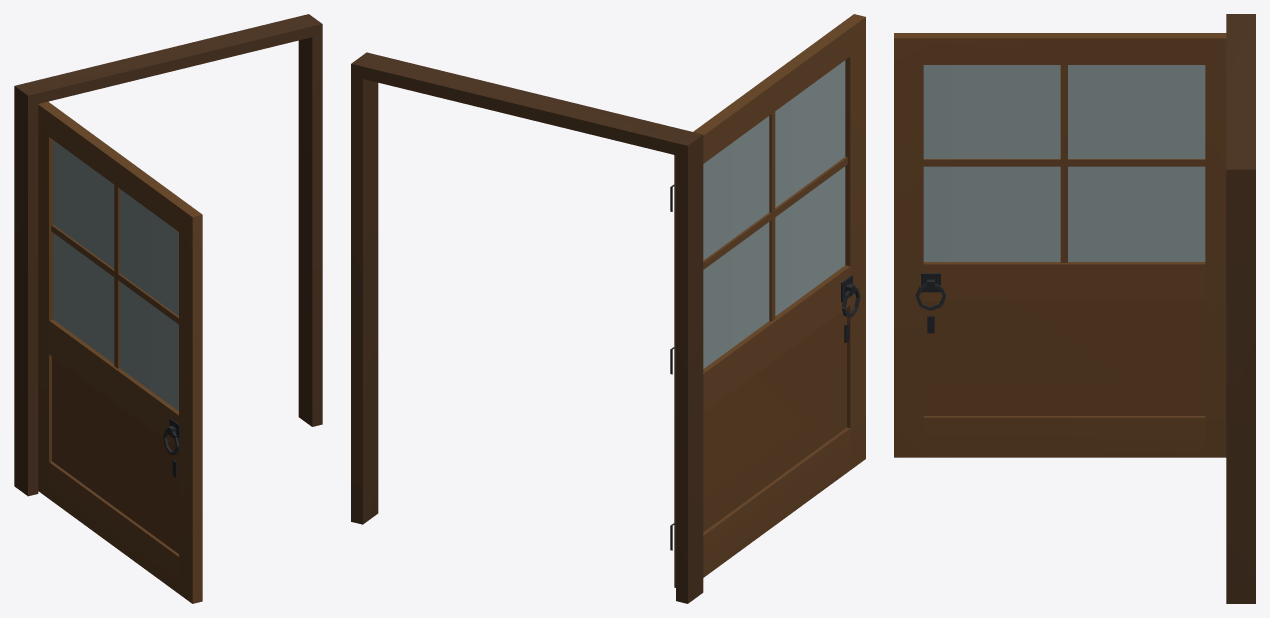
Rendered from door.oak_open.glazed.glb.
3 views of the same model, side by side, from view 1: azimuth 30°, elevation 25°; view 2: azimuth 150°, elevation 25°; view 3: azimuth 270°, elevation 25° (orthographic). The views are drawn at different scales.
Parts seen in each view (by area): view 1: door_oak_open_glazed; view 2: door_oak_open_glazed; view 3: door_oak_open_glazed.
Boxes of the visible parts, x1,y1,x2,y2 form: door_oak_open_glazed: (14, 14, 322, 603); door_oak_open_glazed: (351, 14, 865, 603); door_oak_open_glazed: (894, 14, 1255, 603).
Size of what is drawn, in the model's own units: 2 by 2.6 by 1.96.
